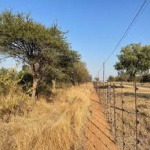Forest: (3, 24, 80, 93)
Uncultivated: (1, 86, 90, 150)
